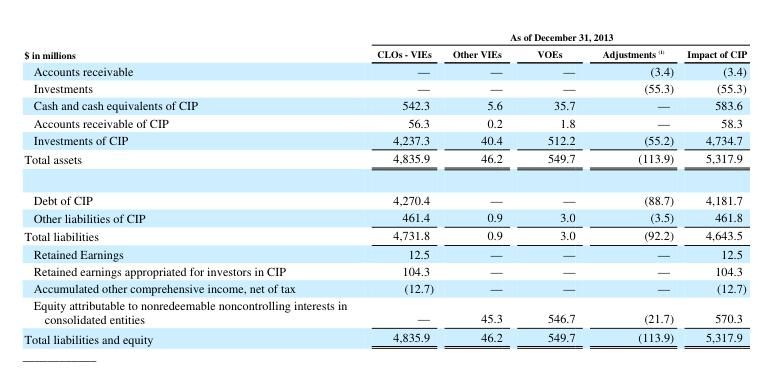table: (23, 29, 746, 346)
table column: (23, 29, 361, 346), (588, 29, 679, 346), (361, 29, 442, 346), (442, 29, 519, 346), (519, 29, 588, 346), (679, 29, 746, 346)
table column header: (23, 29, 746, 61)
table row: (23, 148, 746, 179), (23, 295, 746, 326), (23, 179, 746, 207), (23, 326, 746, 346), (23, 225, 746, 244), (23, 78, 746, 96), (23, 130, 746, 148), (23, 207, 746, 225), (23, 61, 746, 78), (23, 96, 746, 113), (23, 113, 746, 130), (23, 244, 746, 261), (23, 261, 746, 278), (23, 278, 746, 295), (23, 29, 746, 45), (23, 45, 746, 61)
table spanning cell: (23, 29, 361, 61), (361, 29, 746, 45)
